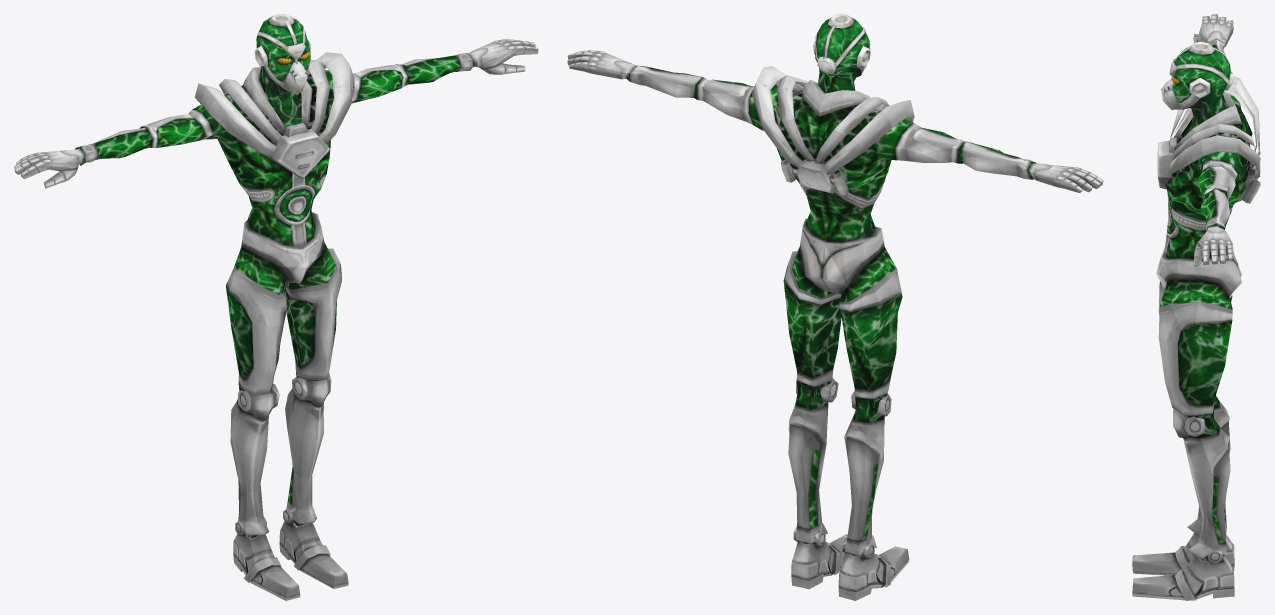
3 renders of one model, left to right at view 1: azimuth 30°, elevation 25°; view 2: azimuth 150°, elevation 25°; view 3: azimuth 270°, elevation 25°, orthographic. The views are drawn at different scales.
Parts seen in each view (by area): view 1: Object_2; view 2: Object_2; view 3: Object_2.
Boxes of the visible parts, x1,y1,x2,y2 form: Object_2: (14,14,538,600); Object_2: (567,14,1103,600); Object_2: (1132,14,1260,600).
Bounding box in the file's own units: 1.76 × 1.78 × 0.3863.
1 material, 1 textured.
